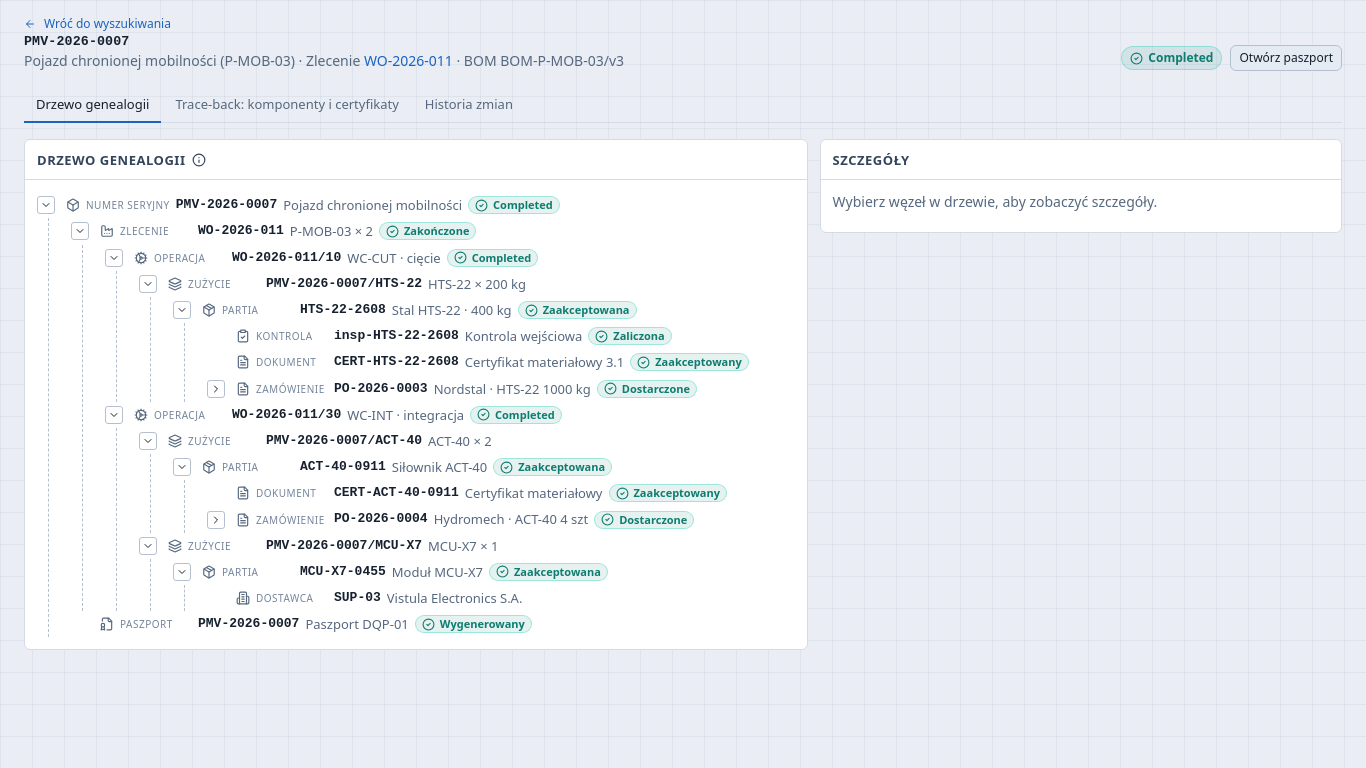
Traceability › genealogy tree expands/collapses and node panel shows details with navigation
expect the list with test id "genealogy-tree" is shown: met, box left=37, top=192, right=795, bottom=637
expect the button with test id "trace-node-HTS-22-2608" is shown: met, box left=195, top=297, right=795, bottom=323
Note: collapse the lot node hides its children, expand again shows them
Step 1. Click the button with test id "trace-toggle-HTS-22-2608" → (182,310), box left=173, top=301, right=191, bottom=319
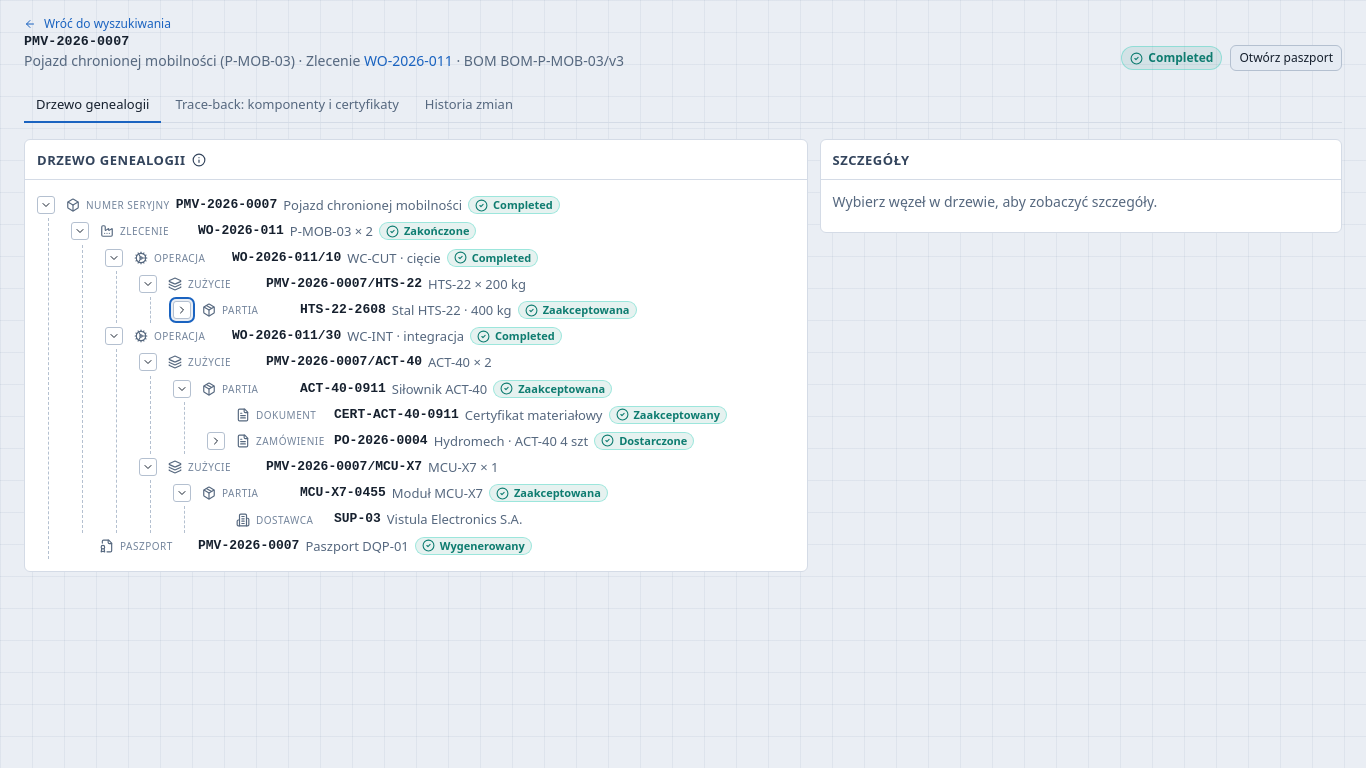
expect the button with test id "trace-node-PO-2026-0003" is gone: met
Step 2. Click the button with test id "trace-toggle-HTS-22-2608" → (182,310), box left=173, top=301, right=191, bottom=319
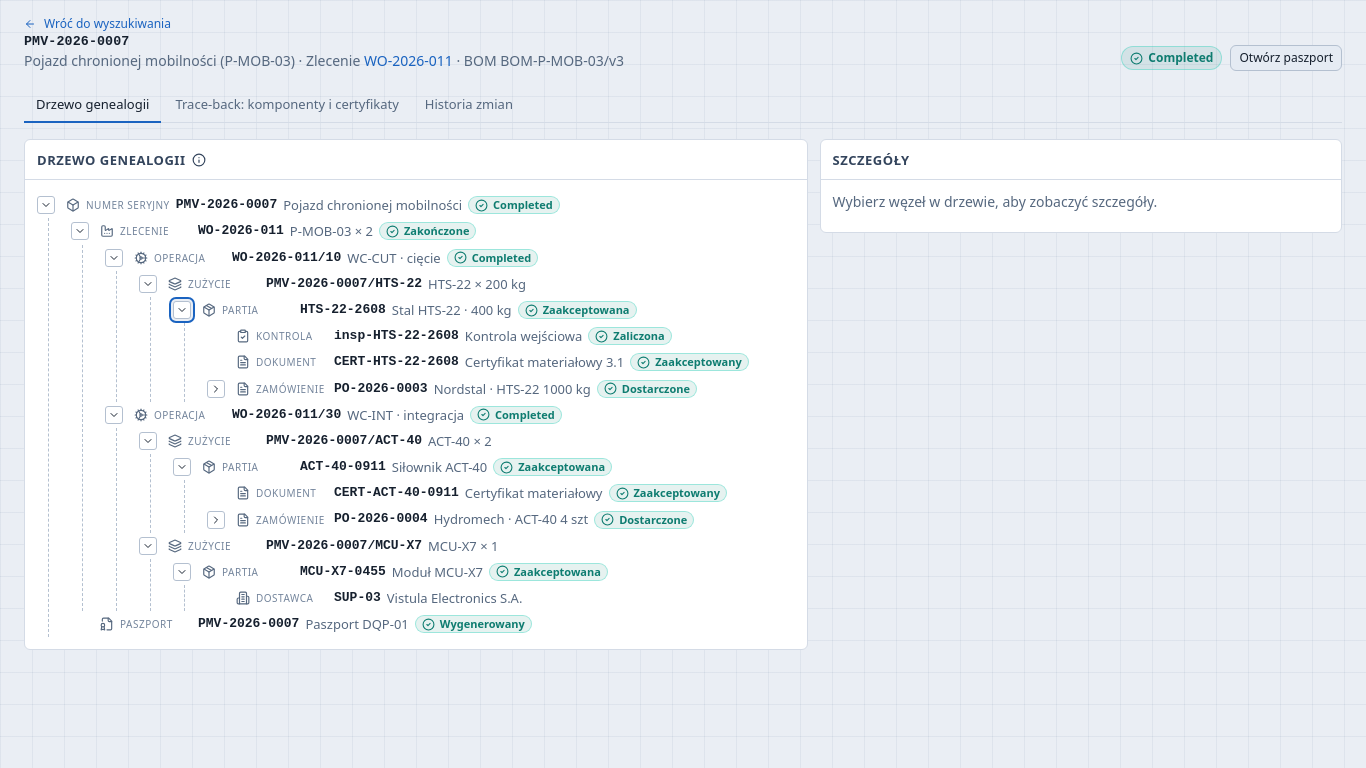
expect the button with test id "trace-node-PO-2026-0003" is shown: met, box left=229, top=376, right=795, bottom=402
Step 3. Click the button with test id "trace-toggle-PO-2026-0003" → (216,389), box left=207, top=380, right=225, bottom=398
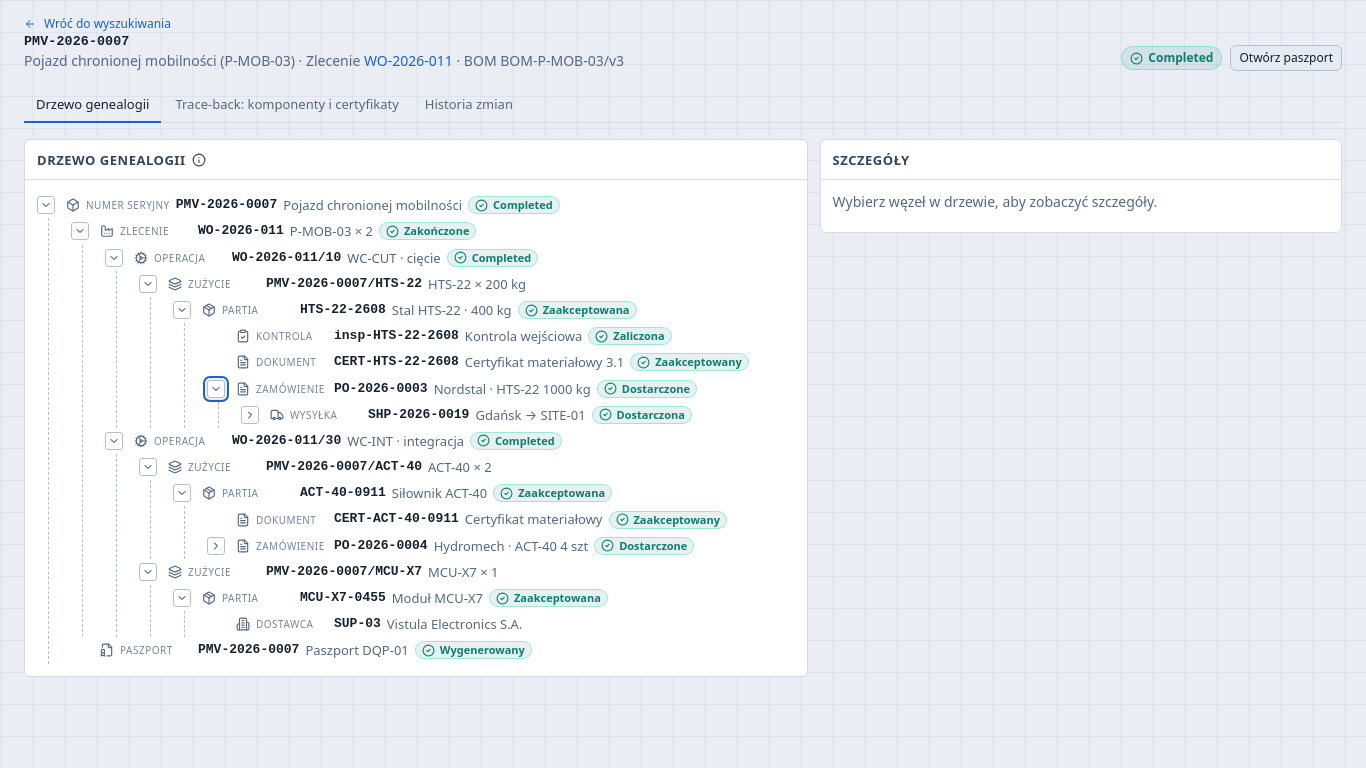
Step 4. Click the button with test id "trace-toggle-SHP-2026-0019" → (250,415), box left=241, top=406, right=259, bottom=424
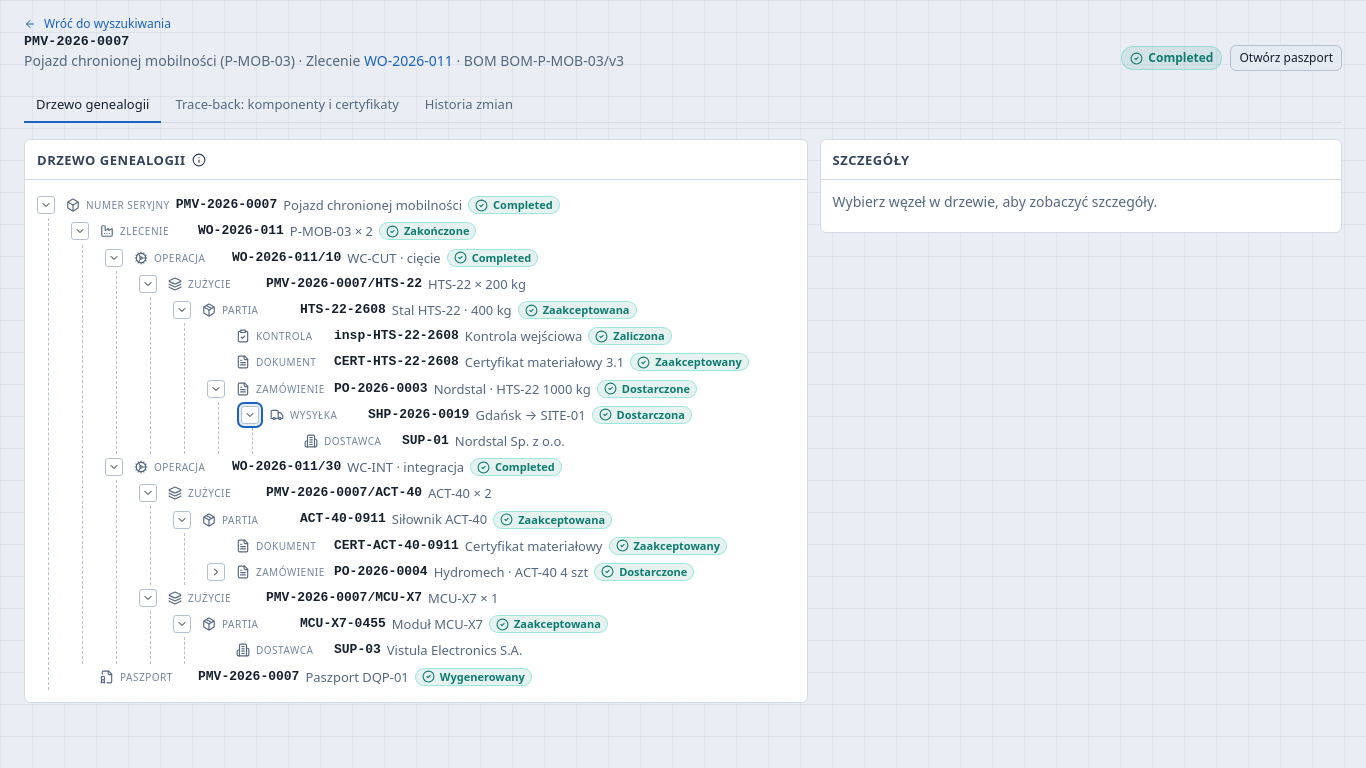
expect the button with test id "trace-node-SUP-01" is shown: met, box left=297, top=428, right=795, bottom=454
Step 5. Click the button with test id "trace-node-HTS-22-2608" → (495,310), box left=195, top=297, right=795, bottom=323
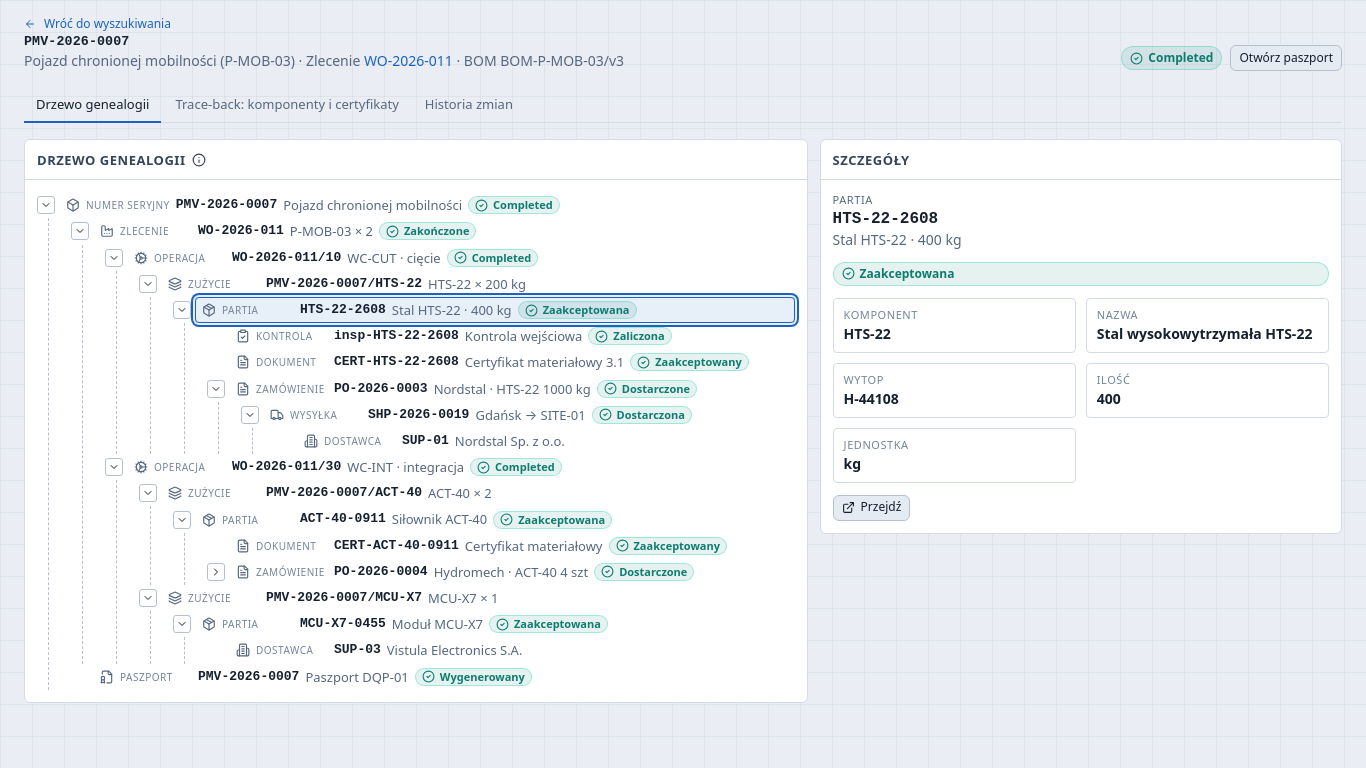
expect the element with test id "trace-node-panel" shows "HTS-22-2608": met, box left=833, top=210, right=938, bottom=228
expect the element with test id "trace-node-panel" shows "Zaakceptowana": met, box left=860, top=265, right=954, bottom=282
Step 6. Click the button with test id "trace-node-open" → (872,508), box left=833, top=494, right=910, bottom=520
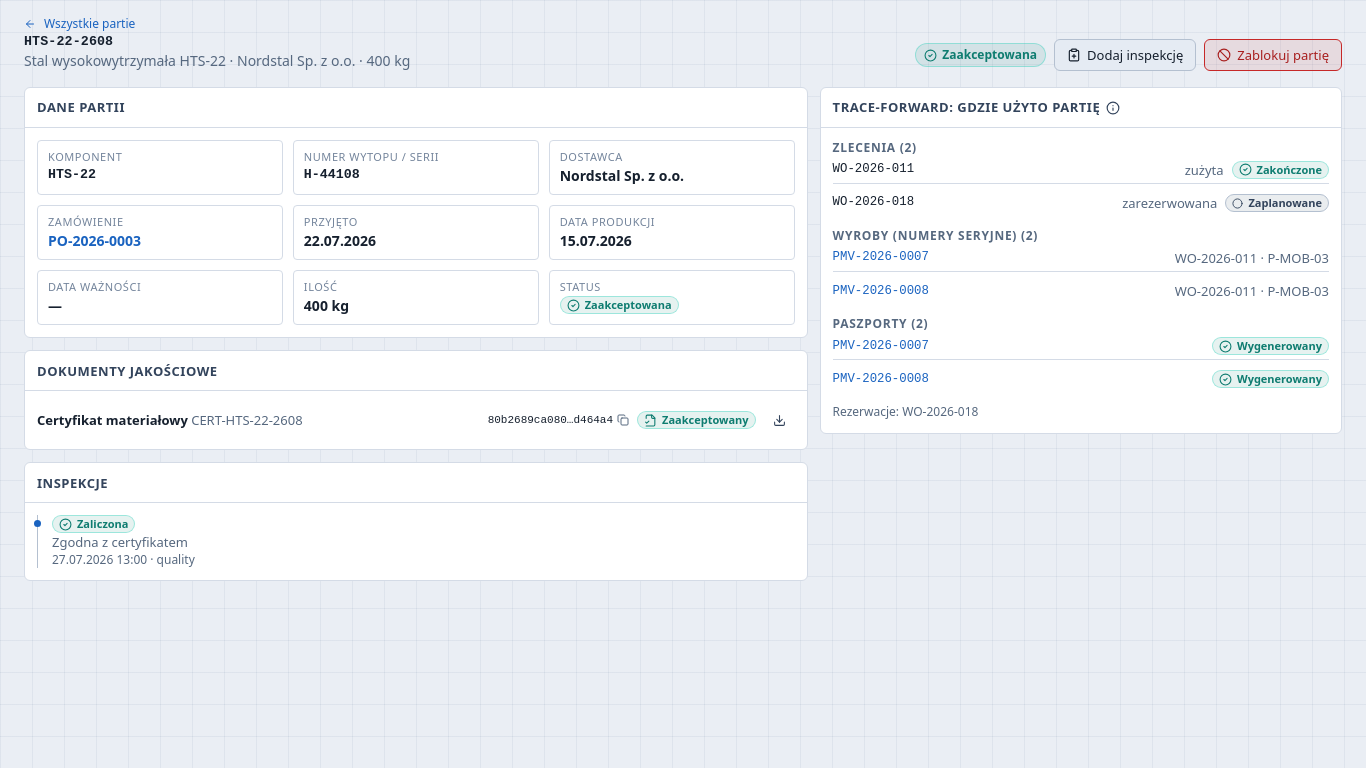
expect the element with test id "lot-page" is shown: met
expect the element with test id "trace-forward" shows "PMV-2026-0007": met, box left=833, top=249, right=929, bottom=267
